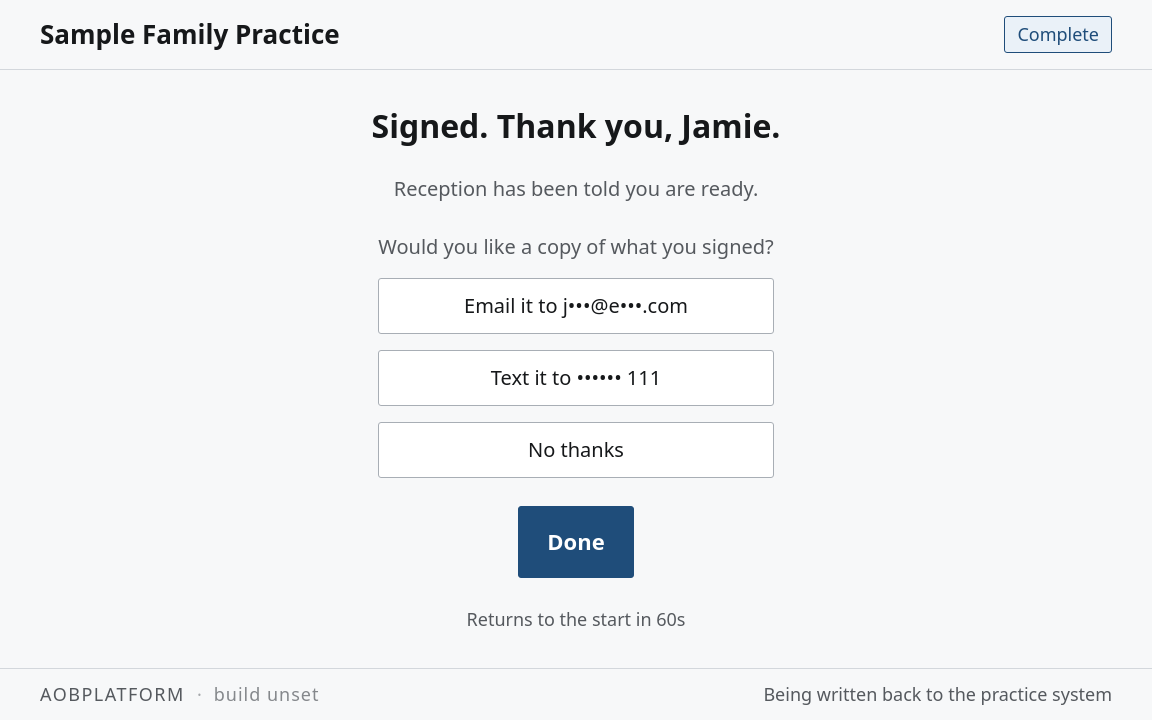
Test case: the copy offer on K-6 › a_declined_copy_leaves_the_ceremony_complete
Expected: the element with test id "copy-offer" is shown, top-left (378, 232), bottom-right (774, 478)
Click the button with test id "copy-option-decline": (576, 450) top-left (378, 422), bottom-right (774, 478)
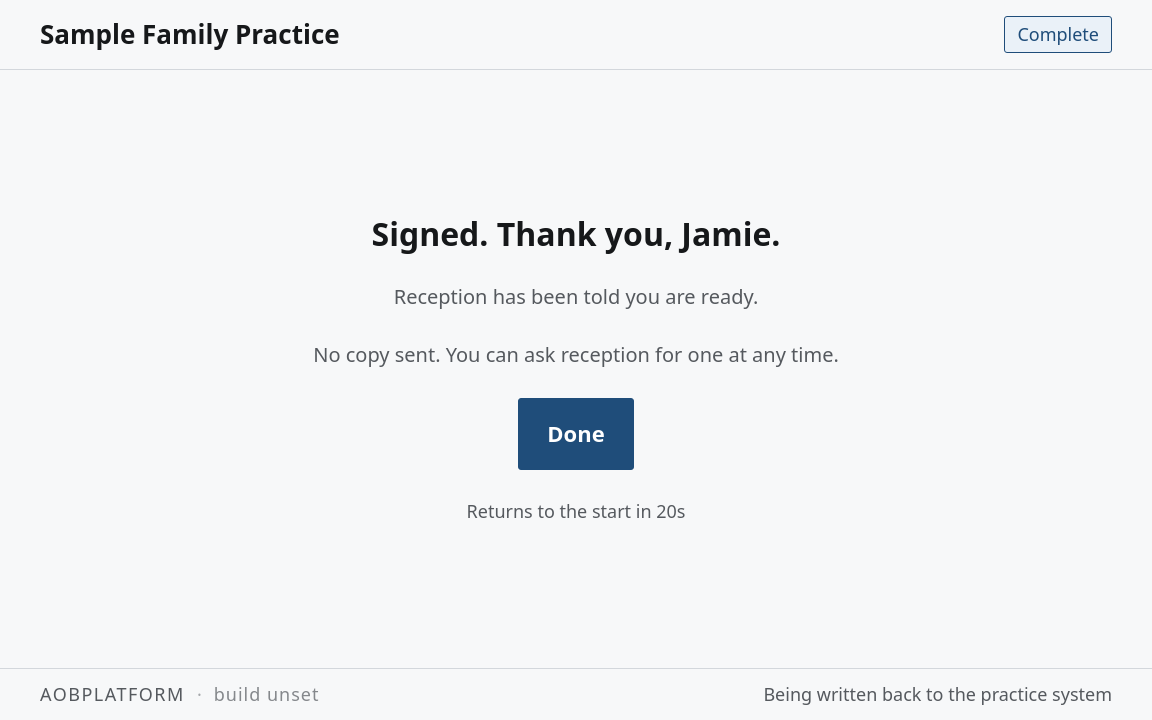
Expected: the heading "Signed. Thank you, Jamie." is shown, top-left (372, 214), bottom-right (780, 254)
Expected: the text with test id "copy-declined" reads "No copy sent. You can ask reception for one at any time.", top-left (313, 340), bottom-right (839, 368)
